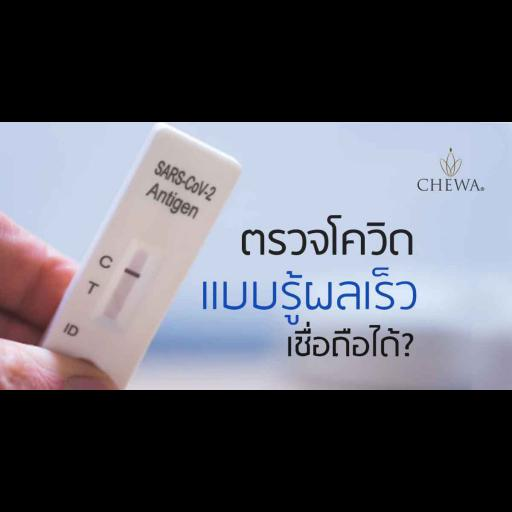Neg: (42, 124, 244, 381)
